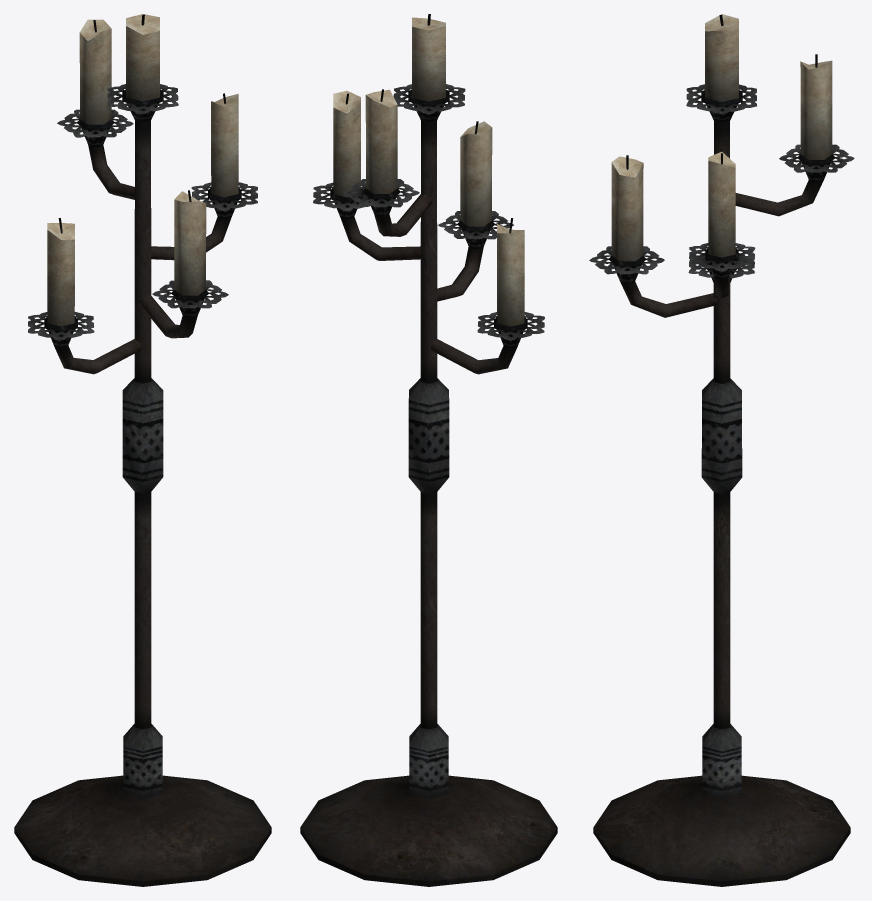
File: candlestick_floor.dae
The picture shows the model from 3 angles, left to right: view 1: azimuth 30°, elevation 25°; view 2: azimuth 150°, elevation 25°; view 3: azimuth 270°, elevation 25°; orthographic projection.
Visible parts, largest first — view 1: polySurface23; view 2: polySurface23; view 3: polySurface23.
Part boxes in pixels (x1,y1,x2,y2): polySurface23: (14,14,271,886); polySurface23: (300,14,557,886); polySurface23: (589,14,854,886).
Size of the model in its own units: 0.6477 by 2.16 by 0.6477.
